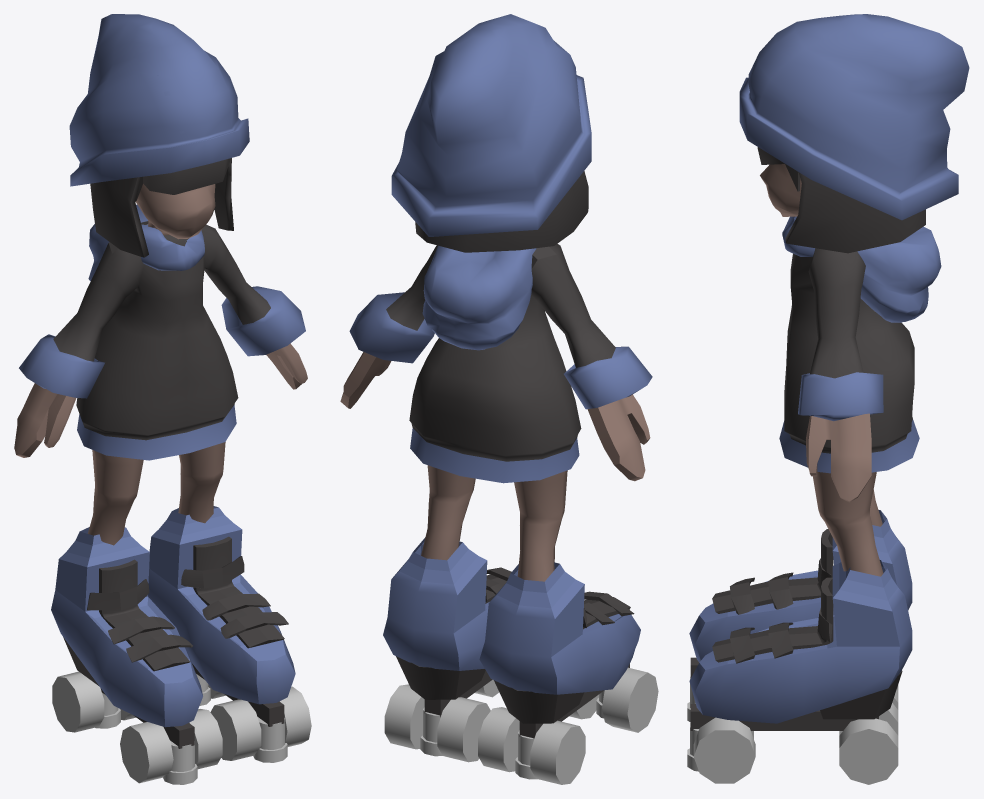
Rendered from Chara_Fille_Splagora3.fbx.
The picture shows the model from 3 angles, left to right: view 1: azimuth 30°, elevation 25°; view 2: azimuth 150°, elevation 25°; view 3: azimuth 270°, elevation 25°; orthographic projection. The views are drawn at different scales.
Parts seen in each view (by area): view 1: pCylinder21, pCube16, pCube17, polySurface2, pCylinder20, pPlane2, polySurface1, pCube19, polySurface5, pPlane3, pCube18; view 2: pCylinder21, polySurface2, pCube16, pCube17, polySurface5, pCylinder20, pPlane2, pCube19, pCube18; view 3: polySurface2, pCube17, pCylinder21, pCube16, pPlane2, polySurface5, pCylinder20, pCube18, polySurface1.
Part boxes in pixels (left/top/right/bottom): pCylinder21: left=19, top=221, right=305, bottom=460; pCube16: left=51, top=527, right=222, bottom=784; pCube17: left=148, top=506, right=311, bottom=762; polySurface2: left=69, top=14, right=249, bottom=186; pCylinder20: left=88, top=224, right=225, bottom=545; pPlane2: left=90, top=161, right=233, bottom=257; polySurface1: left=135, top=183, right=215, bottom=239; pCube19: left=14, top=383, right=76, bottom=457; polySurface5: left=88, top=204, right=204, bottom=281; pPlane3: left=136, top=158, right=231, bottom=200; pCube18: left=266, top=343, right=307, bottom=389; pCylinder21: left=349, top=244, right=652, bottom=483; polySurface2: left=391, top=14, right=591, bottom=236; pCube16: left=478, top=562, right=658, bottom=784; pCube17: left=383, top=537, right=511, bottom=762; polySurface5: left=422, top=245, right=536, bottom=350; pCylinder20: left=421, top=465, right=567, bottom=581; pPlane2: left=415, top=171, right=588, bottom=252; pCube19: left=587, top=394, right=650, bottom=481; pCube18: left=340, top=352, right=391, bottom=408; polySurface2: left=739, top=14, right=969, bottom=220; pCube17: left=687, top=560, right=912, bottom=784; pCylinder21: left=779, top=248, right=919, bottom=473; pCube16: left=687, top=510, right=912, bottom=722; pPlane2: left=785, top=172, right=925, bottom=253; polySurface5: left=782, top=216, right=941, bottom=322; pCylinder20: left=813, top=471, right=883, bottom=576; pCube18: left=806, top=413, right=871, bottom=502; polySurface1: left=760, top=164, right=801, bottom=216.
Bounding box in the file's own units: 0.7836 × 0.6377 × 1.82.
